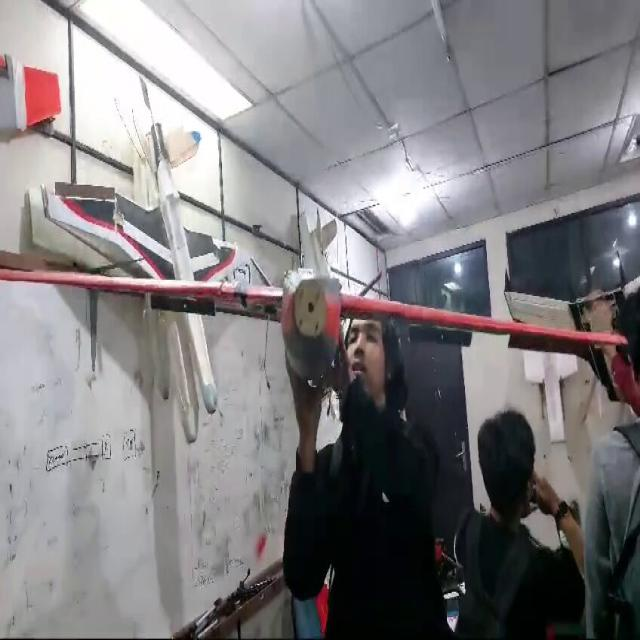plane: (0, 75, 634, 439)
